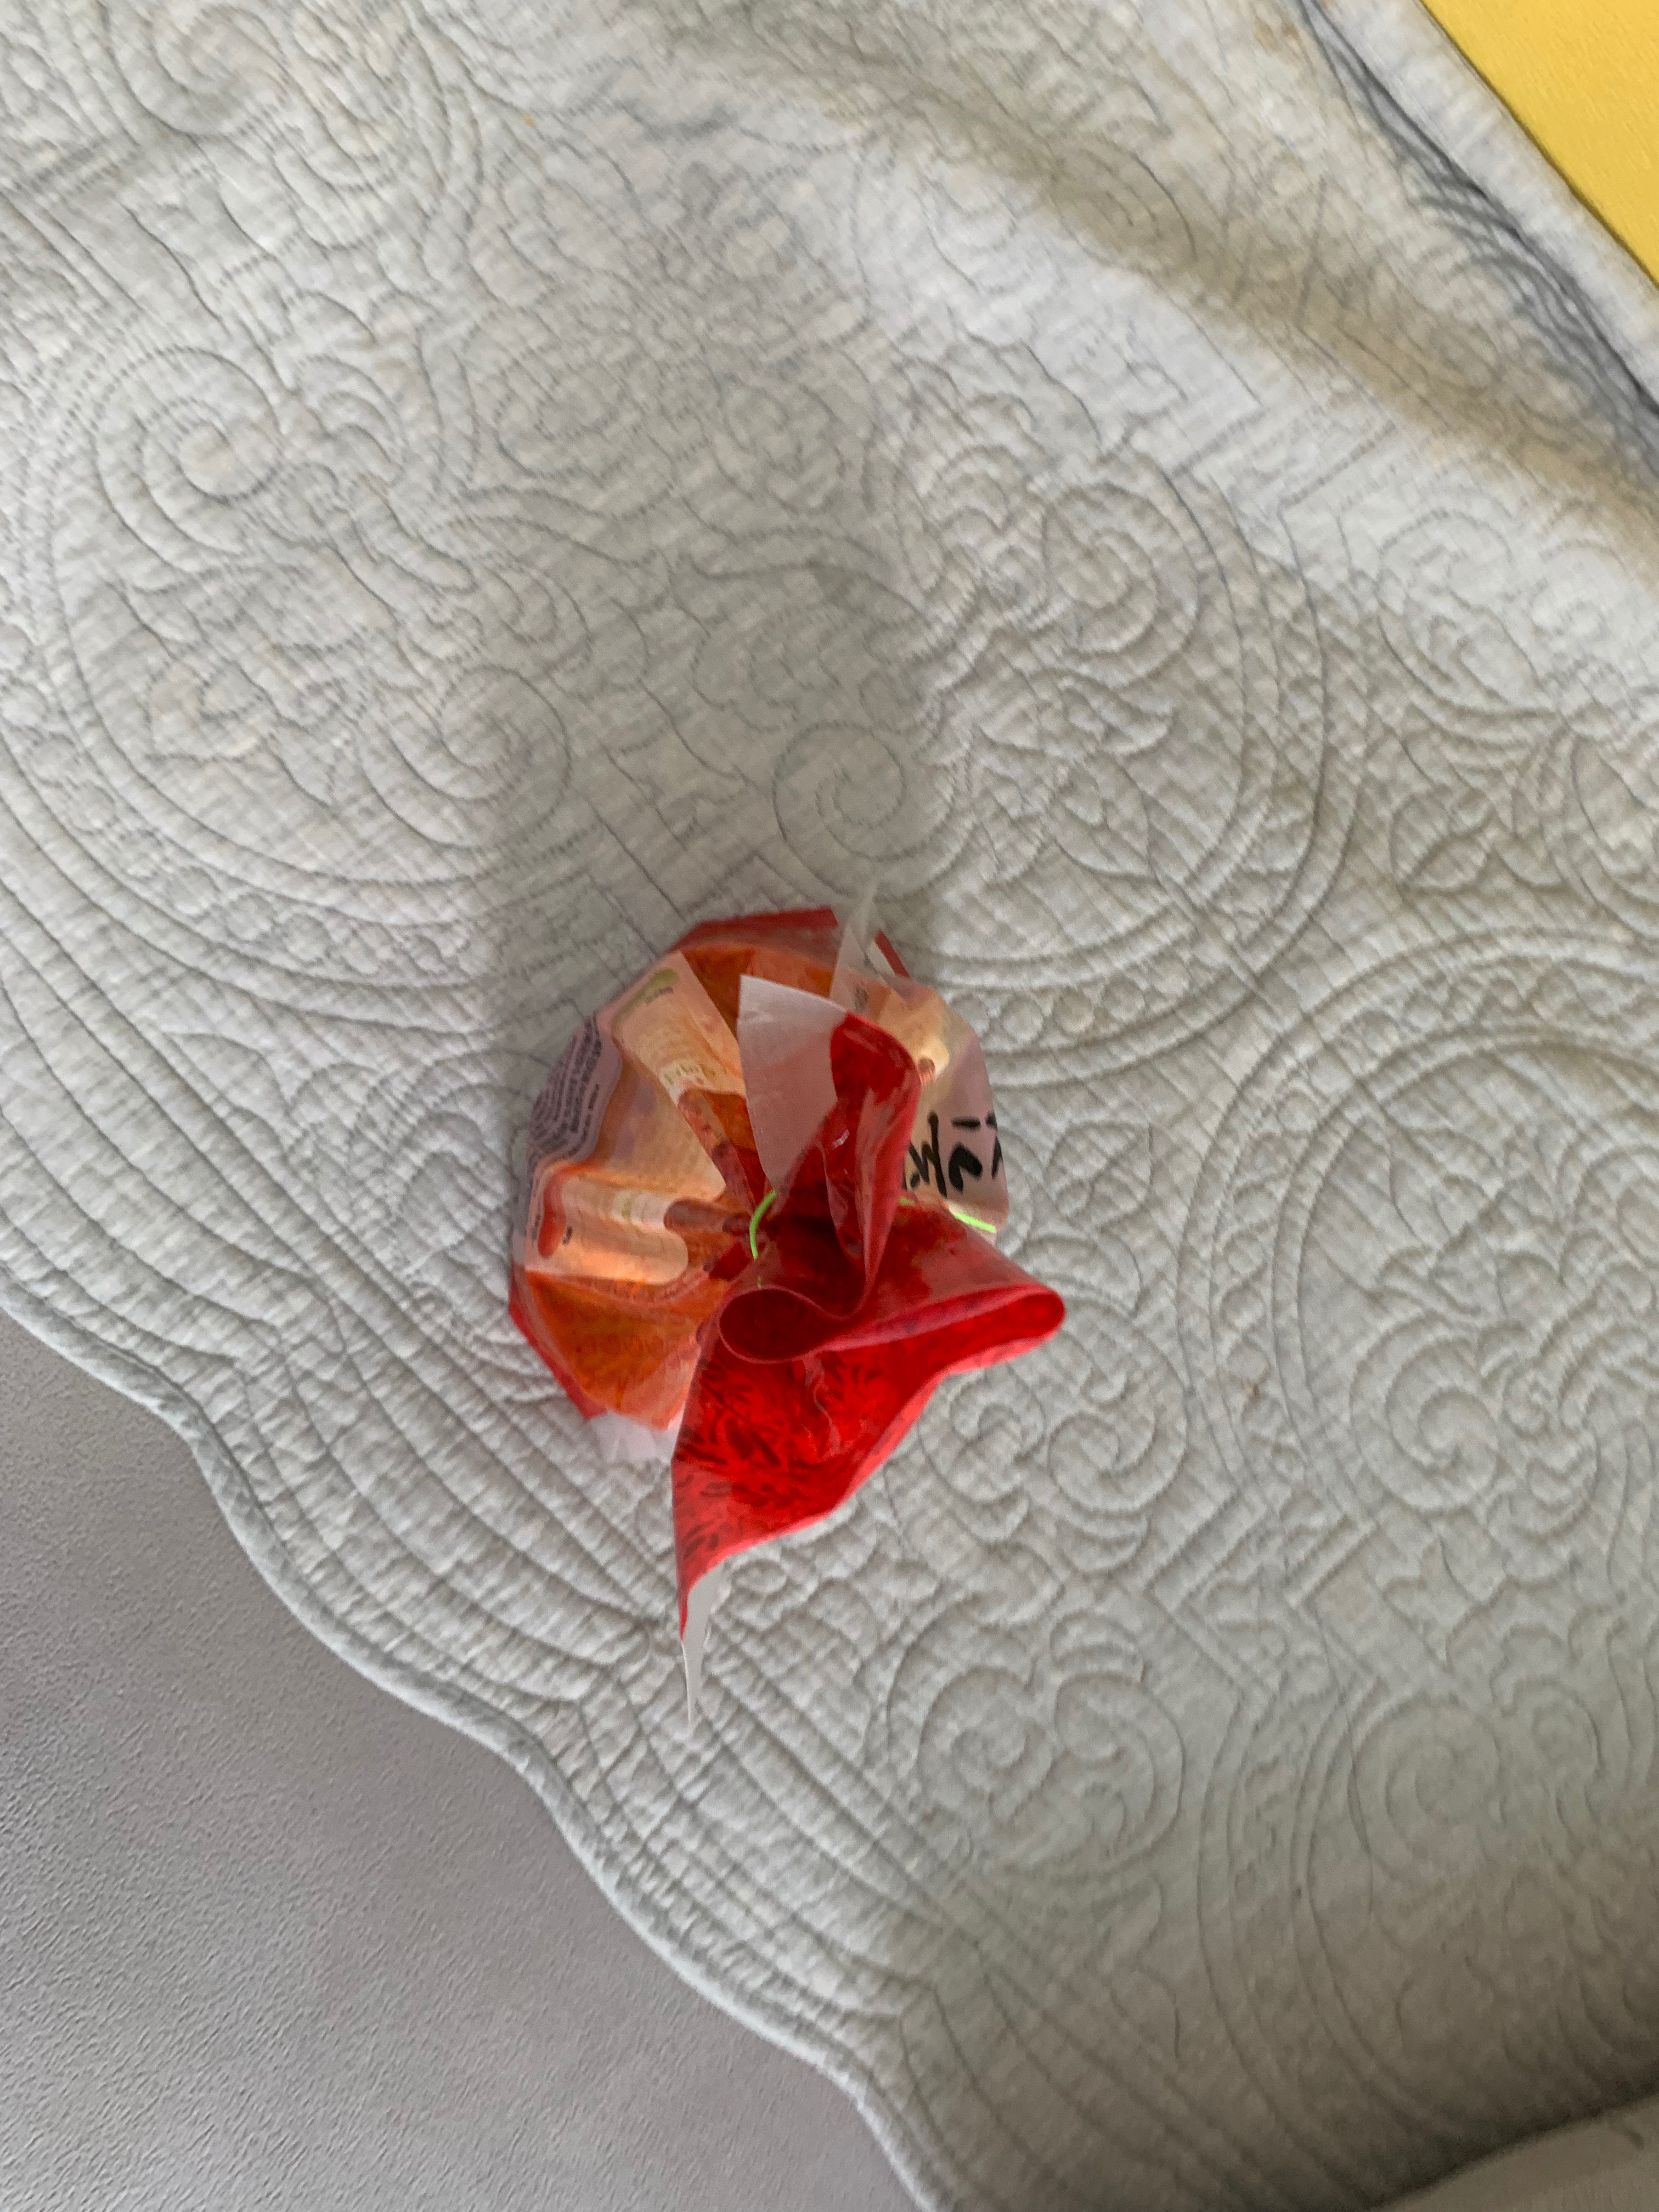kimchi: (519, 906, 1065, 1536)
